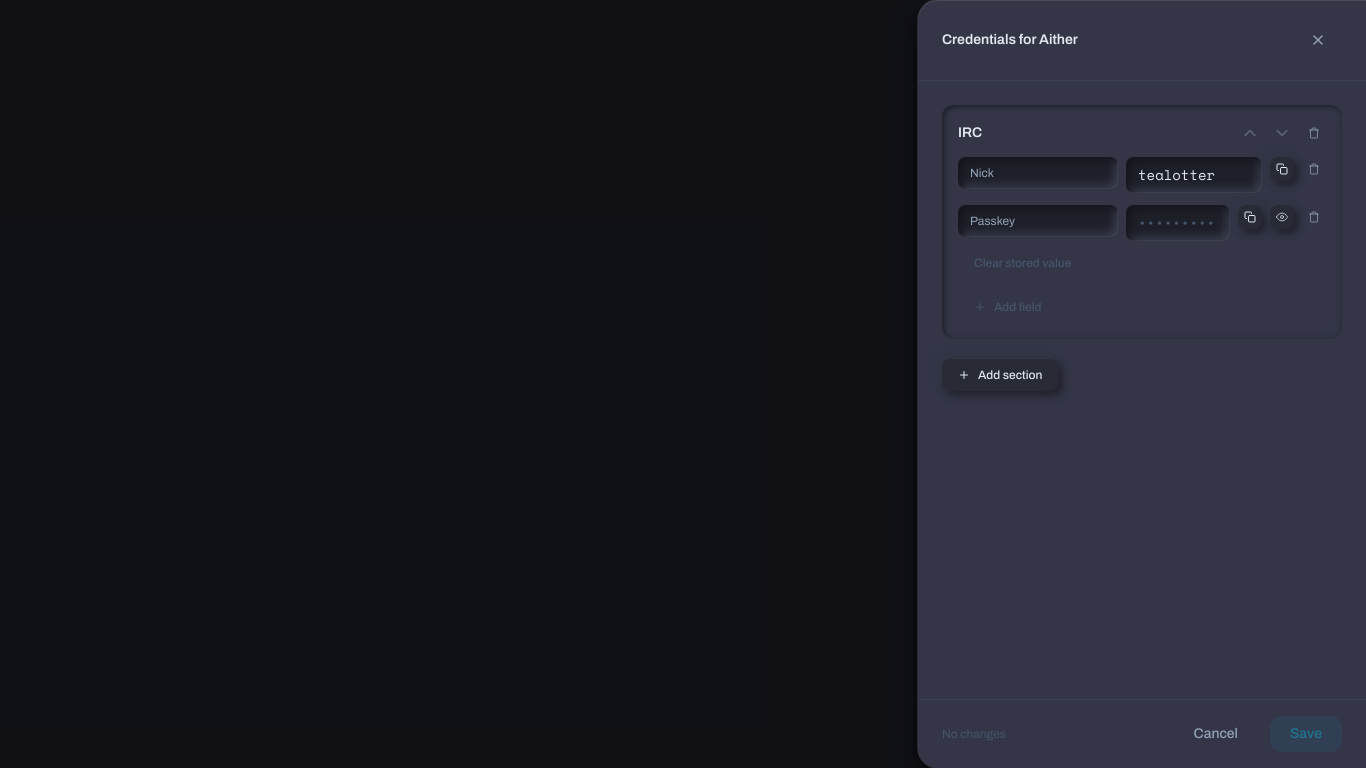
Test case: reveal fetches exactly one field › surfaces the rate limiter's own message instead of a generic failure
Click the button named "Show Passkey" at (1282, 217), box top-left (1270, 205), bottom-right (1294, 229)
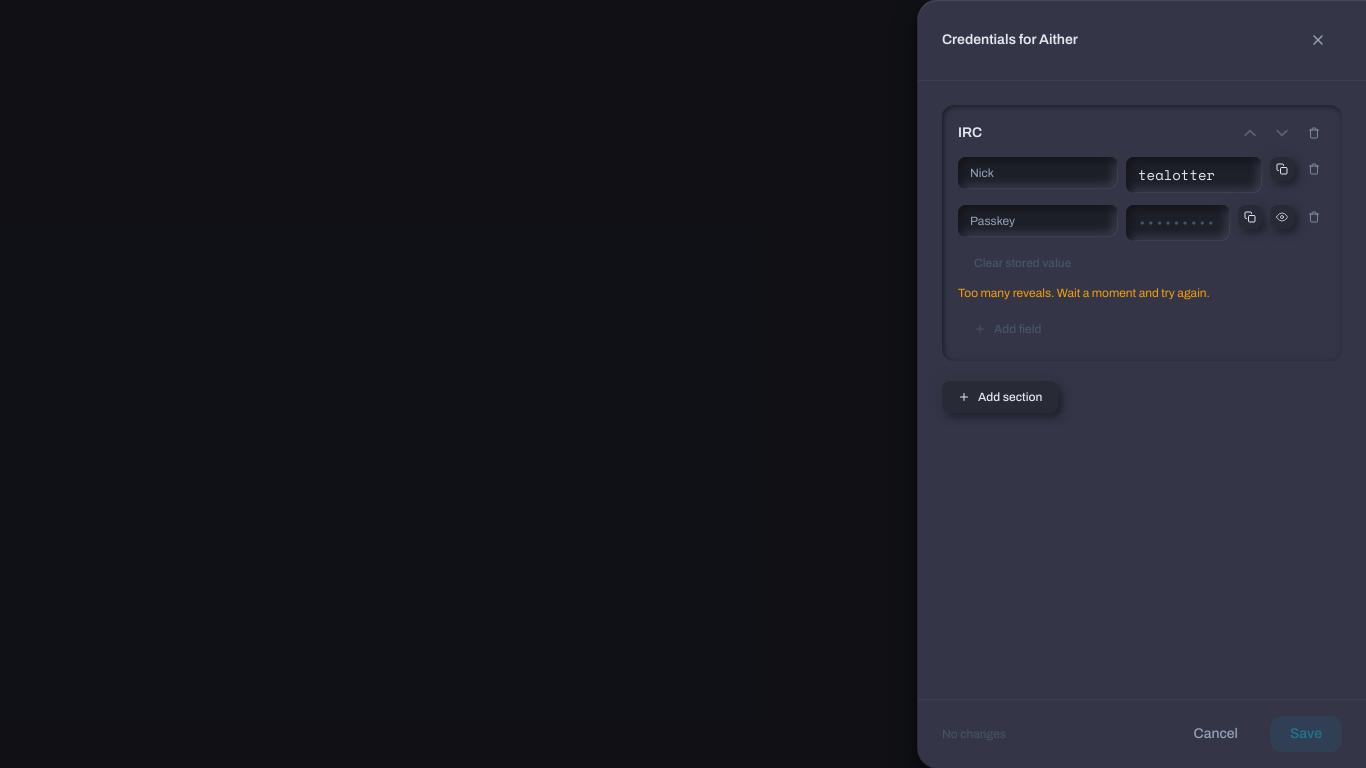
Now the text "Too many reveals. Wait a moment and try again." is shown, box top-left (958, 285), bottom-right (1210, 301)
